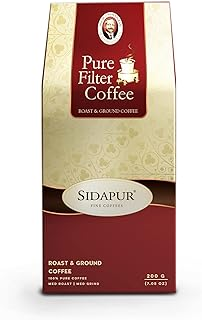Coffee: (42, 1, 178, 295)
